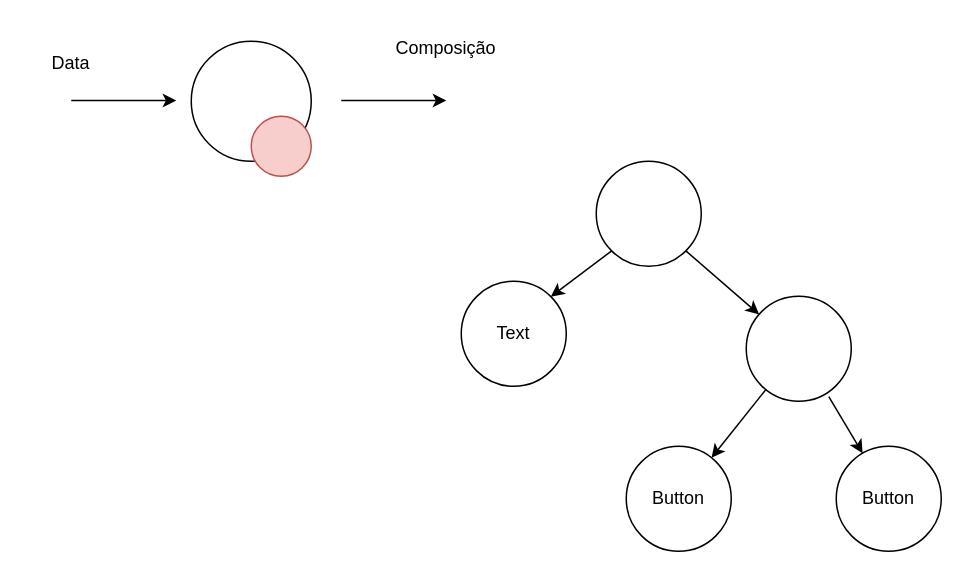
Some shapes in this 968 by 578 pixel diagram are drawn without their labels. Here are the shapes that lost their labels. From the top down, the box of each, then its label:
(595, 160, 701, 266): Column
(745, 295, 851, 401): Row
